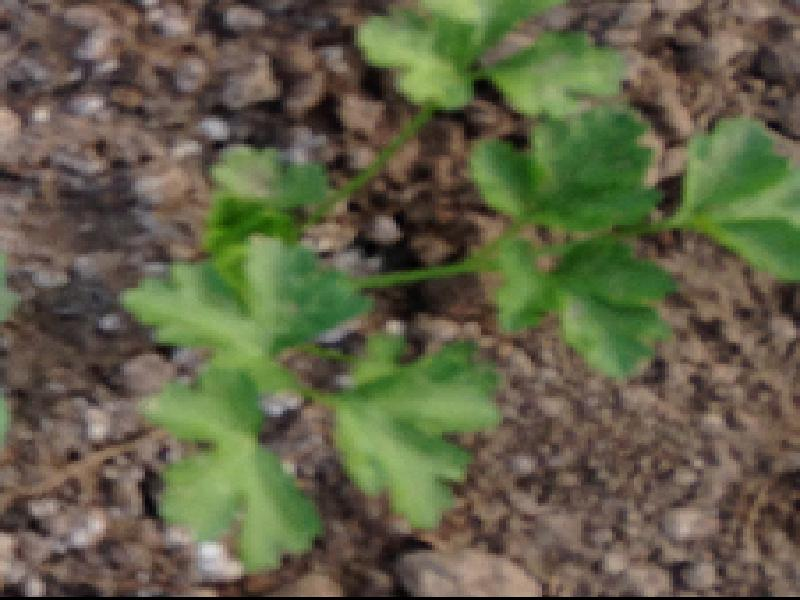radish: (0, 0, 778, 522)
